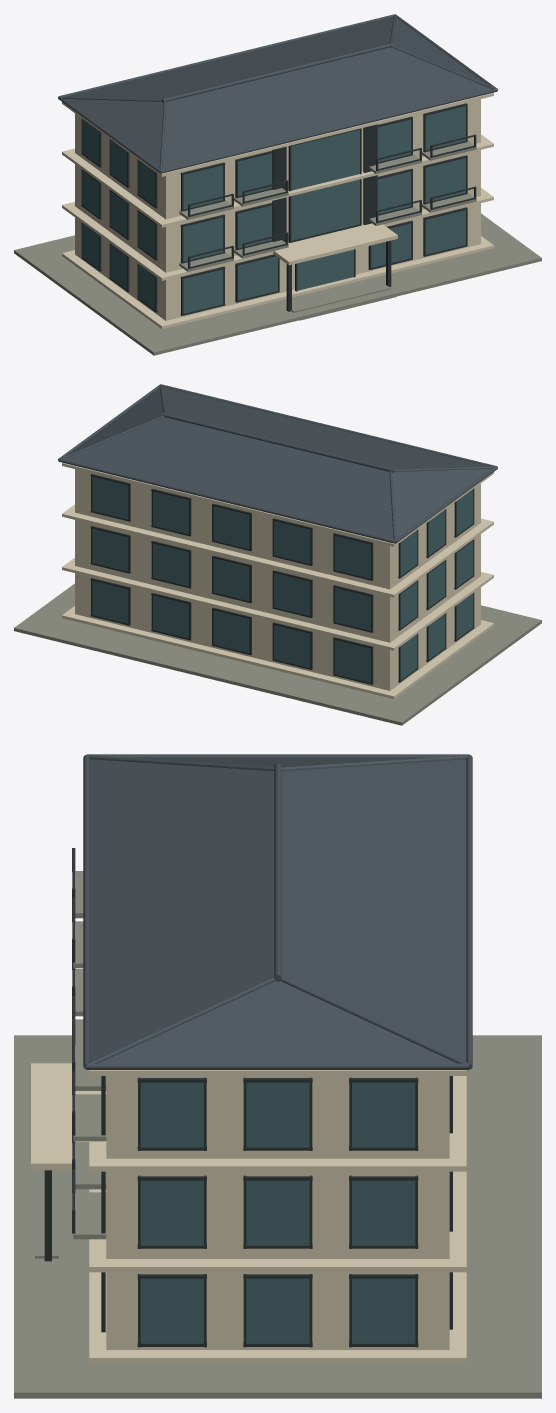
File: H02-proposal-v1-LOD1.glb
The picture shows the model from 3 angles, top to bottom: view 1: azimuth 30°, elevation 25°; view 2: azimuth 150°, elevation 25°; view 3: azimuth 270°, elevation 25°; orthographic projection. The views are drawn at different scales.
Visible parts, largest first — view 1: H02_proposed_exterior_LOD1; view 2: H02_proposed_exterior_LOD1; view 3: H02_proposed_exterior_LOD1.
Boxes of the visible parts, bbox=[...] form: H02_proposed_exterior_LOD1: bbox=[14, 14, 541, 355]; H02_proposed_exterior_LOD1: bbox=[14, 384, 541, 725]; H02_proposed_exterior_LOD1: bbox=[14, 754, 541, 1398].
Bounding box in the file's own units: 32 × 14.7 × 20.
